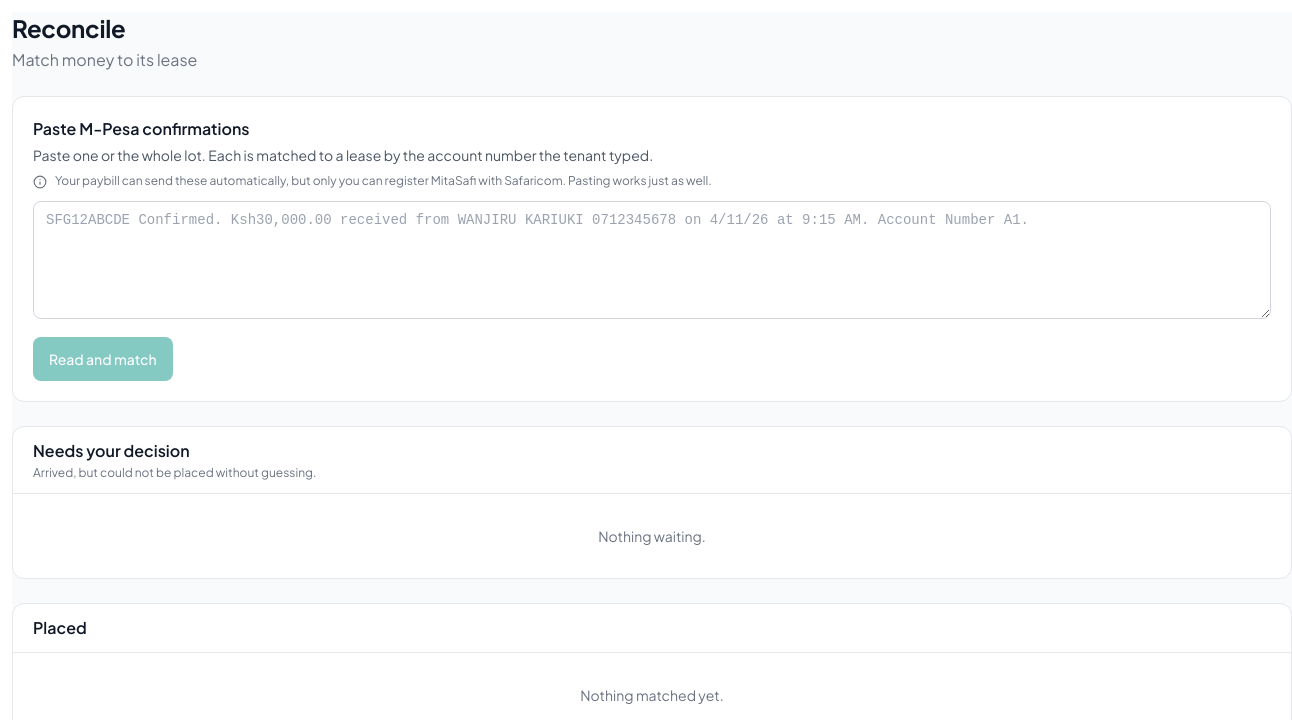
Test: ReconcileClient › the report after a paste › says what happened to each message
Replace the text in the text box named "M-Pesa confirmation messages" with "SFG12ABCDE Confirmed. Ksh30,000.00" at (652, 260), box [33, 201, 1271, 319]
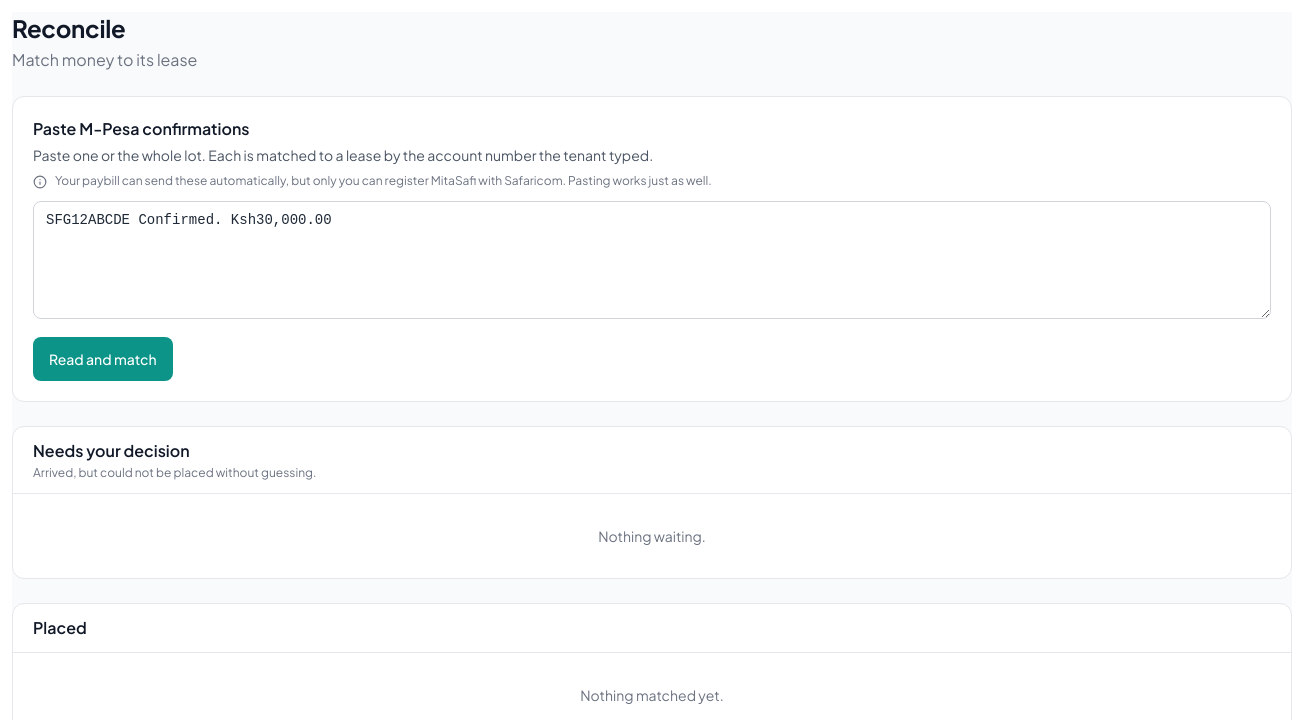
Click the button "Read and match" at (103, 359), box [33, 337, 172, 381]
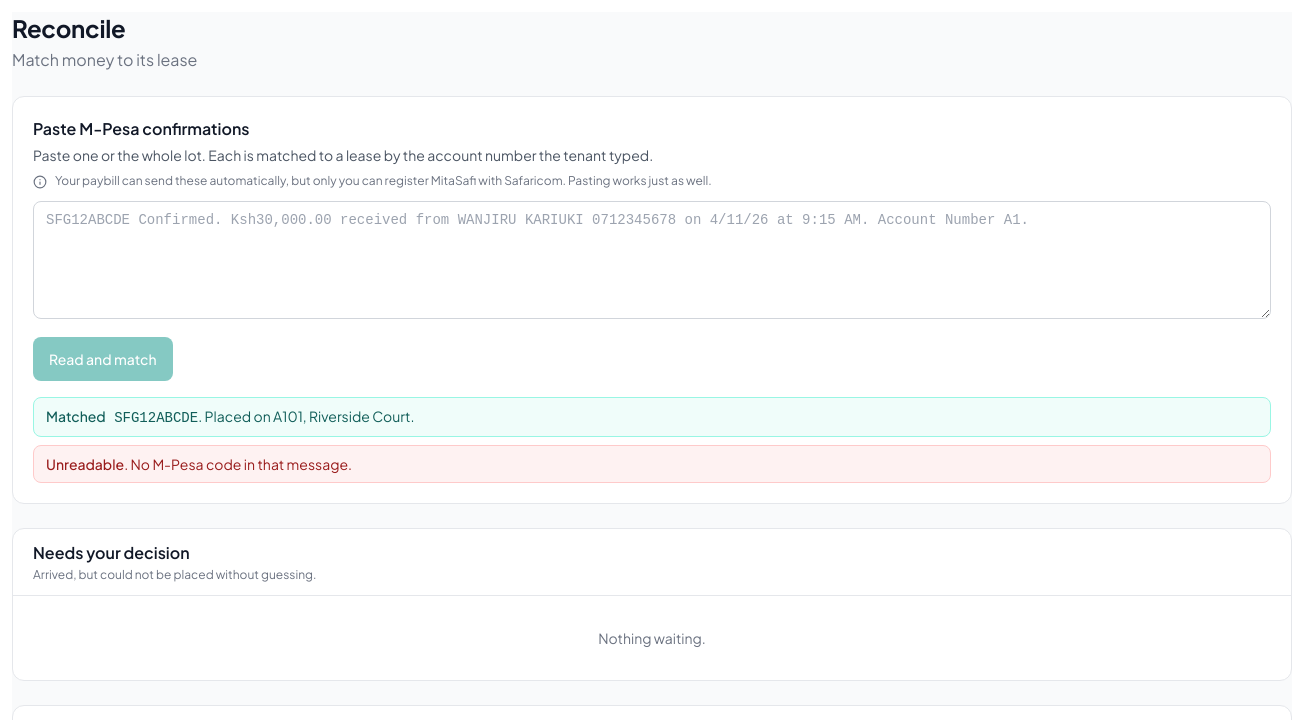
Expected: the list named "What happened to each message" is shown, [33, 397, 1271, 483]
Expected: the text "matched" is shown, [46, 407, 106, 425]
Expected: the text "SFG12ABCDE" is shown, [106, 410, 198, 426]
